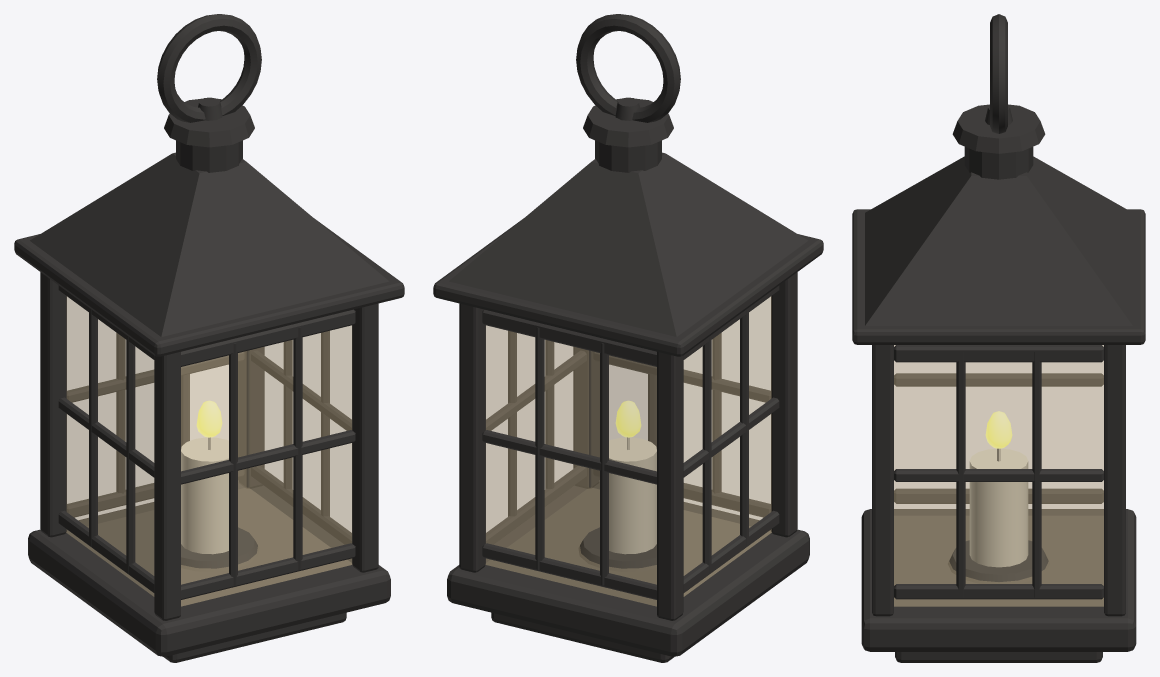
File: hanging-lantern_final.glb
The picture shows the model from 3 angles, left to right: view 1: azimuth 30°, elevation 25°; view 2: azimuth 150°, elevation 25°; view 3: azimuth 270°, elevation 25°; orthographic projection.
Visible parts, largest first — view 1: SM_HangingLantern_Frame, SM_HangingLantern_Roof, SM_HangingLantern_Glass, SM_HangingLantern_Base, SM_HangingLantern_Ring, SM_HangingLantern_Candle, SM_HangingLantern_CandleDish, SM_HangingLantern_Flame; view 2: SM_HangingLantern_Frame, SM_HangingLantern_Roof, SM_HangingLantern_Glass, SM_HangingLantern_Base, SM_HangingLantern_Ring, SM_HangingLantern_Candle, SM_HangingLantern_CandleDish, SM_HangingLantern_Flame; view 3: SM_HangingLantern_Roof, SM_HangingLantern_Glass, SM_HangingLantern_Frame, SM_HangingLantern_Base, SM_HangingLantern_Candle, SM_HangingLantern_Ring, SM_HangingLantern_CandleDish, SM_HangingLantern_Flame.
Part boxes in pixels (bbox=[...]): SM_HangingLantern_Frame: bbox=[40, 272, 378, 620]; SM_HangingLantern_Roof: bbox=[14, 98, 404, 356]; SM_HangingLantern_Glass: bbox=[66, 296, 352, 606]; SM_HangingLantern_Base: bbox=[28, 481, 390, 662]; SM_HangingLantern_Ring: bbox=[157, 14, 261, 122]; SM_HangingLantern_Candle: bbox=[181, 437, 228, 554]; SM_HangingLantern_CandleDish: bbox=[181, 527, 259, 571]; SM_HangingLantern_Flame: bbox=[196, 400, 222, 437]; SM_HangingLantern_Frame: bbox=[459, 272, 797, 620]; SM_HangingLantern_Roof: bbox=[433, 98, 823, 356]; SM_HangingLantern_Glass: bbox=[485, 296, 771, 606]; SM_HangingLantern_Base: bbox=[447, 482, 809, 662]; SM_HangingLantern_Ring: bbox=[576, 14, 680, 122]; SM_HangingLantern_Candle: bbox=[609, 437, 656, 554]; SM_HangingLantern_CandleDish: bbox=[578, 527, 656, 571]; SM_HangingLantern_Flame: bbox=[615, 400, 641, 437]; SM_HangingLantern_Roof: bbox=[852, 104, 1145, 344]; SM_HangingLantern_Glass: bbox=[894, 345, 1103, 606]; SM_HangingLantern_Frame: bbox=[872, 345, 1125, 616]; SM_HangingLantern_Base: bbox=[861, 509, 1136, 662]; SM_HangingLantern_Candle: bbox=[969, 448, 1028, 567]; SM_HangingLantern_Ring: bbox=[985, 14, 1012, 133]; SM_HangingLantern_CandleDish: bbox=[948, 540, 1049, 583]; SM_HangingLantern_Flame: bbox=[985, 411, 1012, 448].
Size of the model in its own units: 0.24 by 0.5435 by 0.24.
